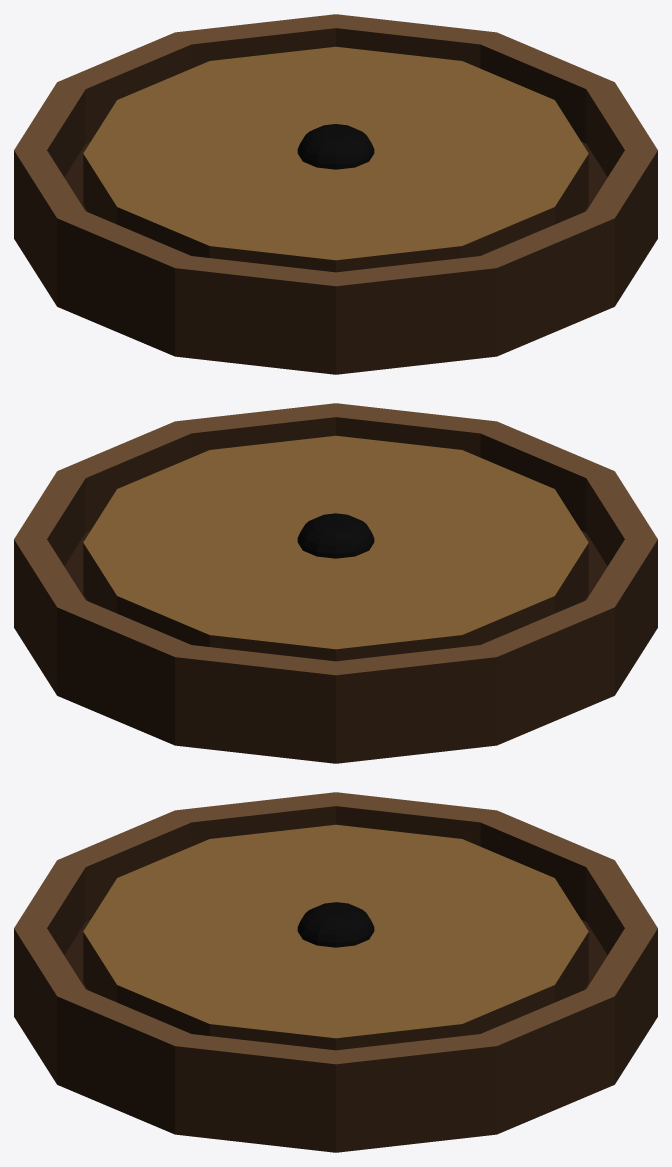
The model's file is Shield.fbx.
3 renders of one model, top to bottom at view 1: azimuth 30°, elevation 25°; view 2: azimuth 150°, elevation 25°; view 3: azimuth 270°, elevation 25°, orthographic.
Parts seen in each view (by area): view 1: Circle; view 2: Circle; view 3: Circle.
Boxes of the visible parts, <box> form: Circle: <box>14,14,657,374</box>; Circle: <box>14,403,657,763</box>; Circle: <box>14,792,657,1152</box>.
Size of the model in its own units: 127 by 23.22 by 127.
